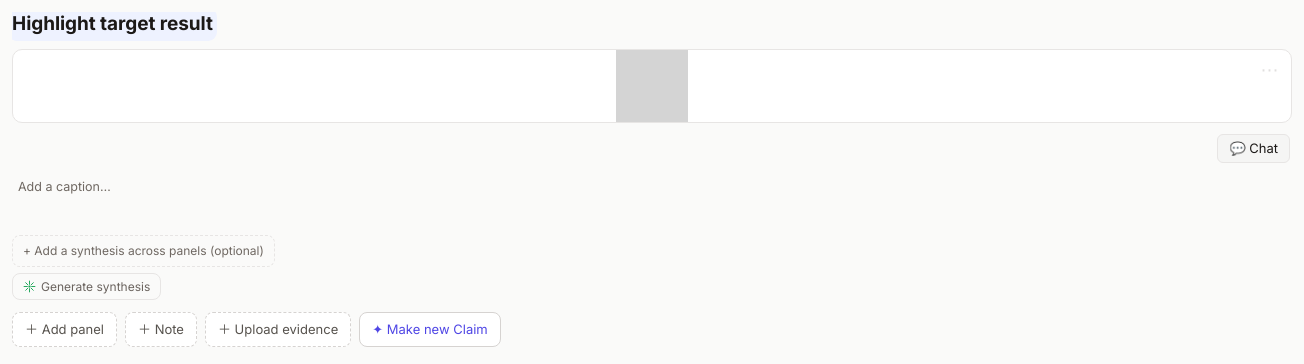
Test: ResultView — Highlight tool › with highlighting=true, hovering a MemberPanel shows the yellow surface
Hover over the element with class "rv-panel" at (652, 126), box [12,49,1292,203]
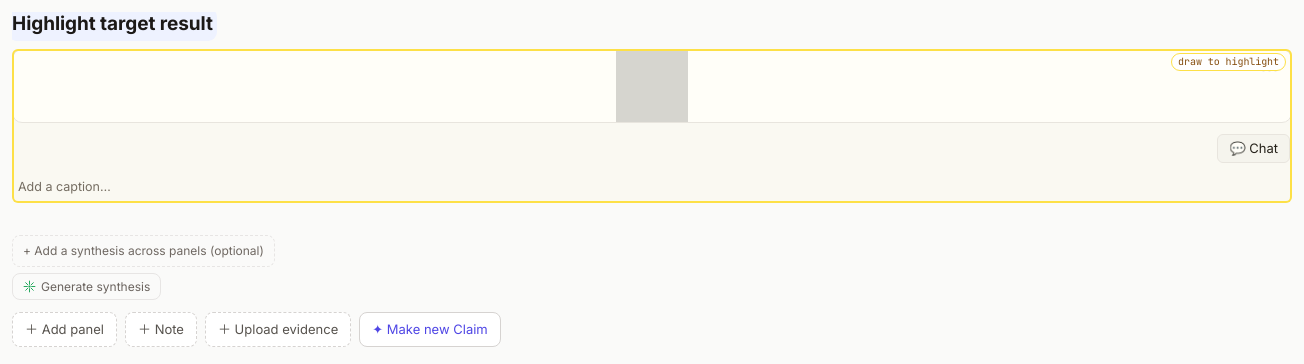
Check: the element with class "rv-panel__hl" is shown, box [12,49,1292,203]
Check: the text with class "rv-panel__hl-hint" reads "draw to highlight", box [1178,55,1279,68]
